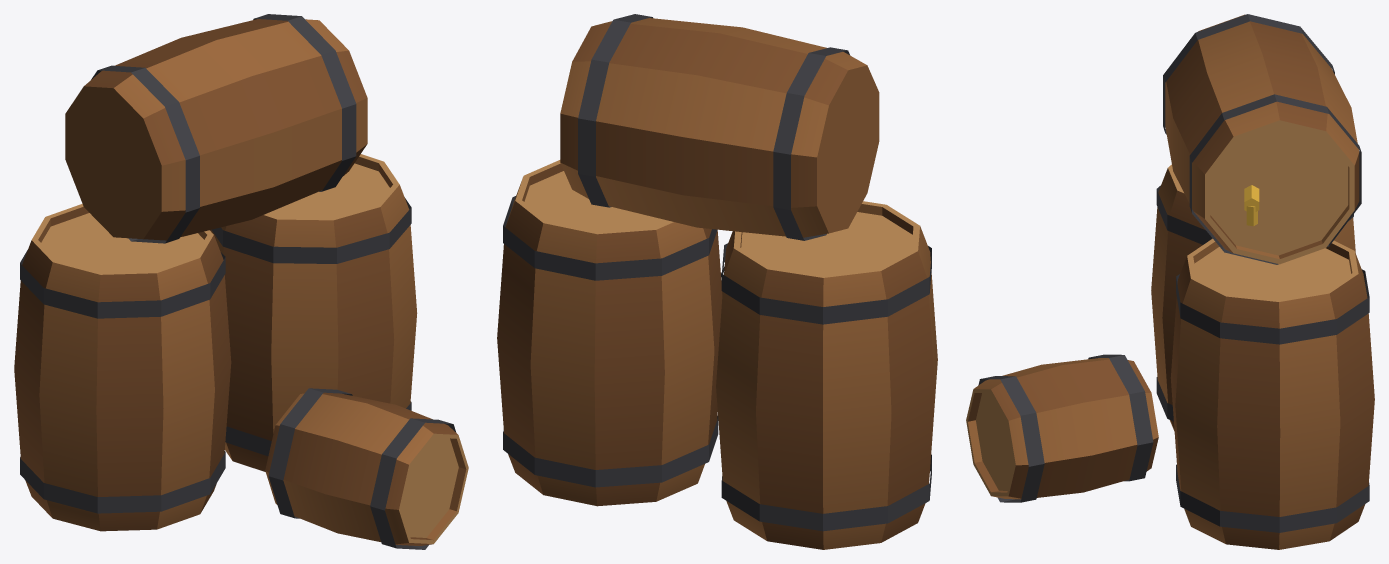
File: barrel_stack.glb
The picture shows the model from 3 angles, left to right: view 1: azimuth 30°, elevation 25°; view 2: azimuth 150°, elevation 25°; view 3: azimuth 270°, elevation 25°; orthographic projection. The views are drawn at different scales.
Parts seen in each view (by area): view 1: barrel_stack; view 2: barrel_stack; view 3: barrel_stack.
Part boxes in pixels (x1,y1,x2,y2): barrel_stack: (14,14,468,549); barrel_stack: (497,14,937,549); barrel_stack: (966,14,1374,549).
Bounding box in the file's own units: 1.21 × 1.31 × 1.17.
